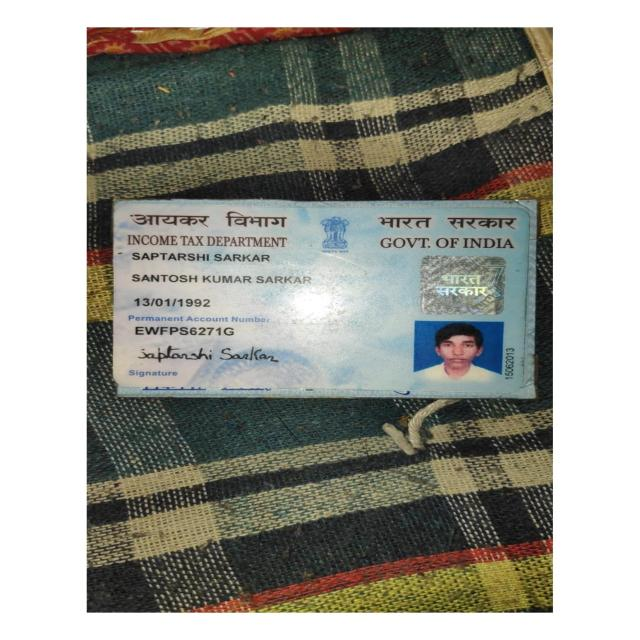pan_card: (112, 203, 529, 393)
